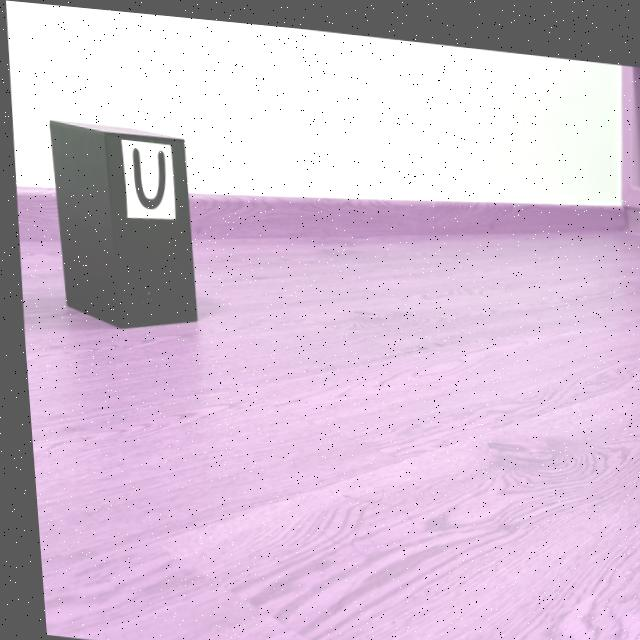U: (130, 144, 163, 207)
